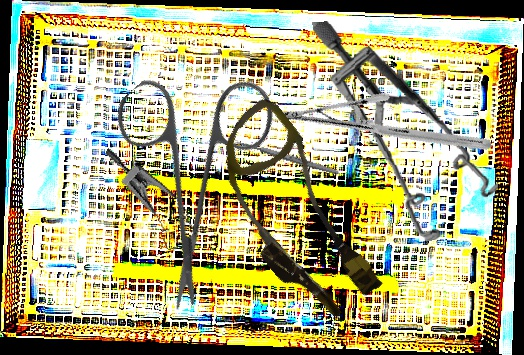Cannula: (184, 93, 405, 333)
Iris Scissors: (46, 24, 340, 316)
Needle Holder: (275, 44, 493, 216)
Speculum: (312, 10, 502, 248), (79, 147, 212, 258)
Surgical Spoon: (227, 135, 340, 177)
